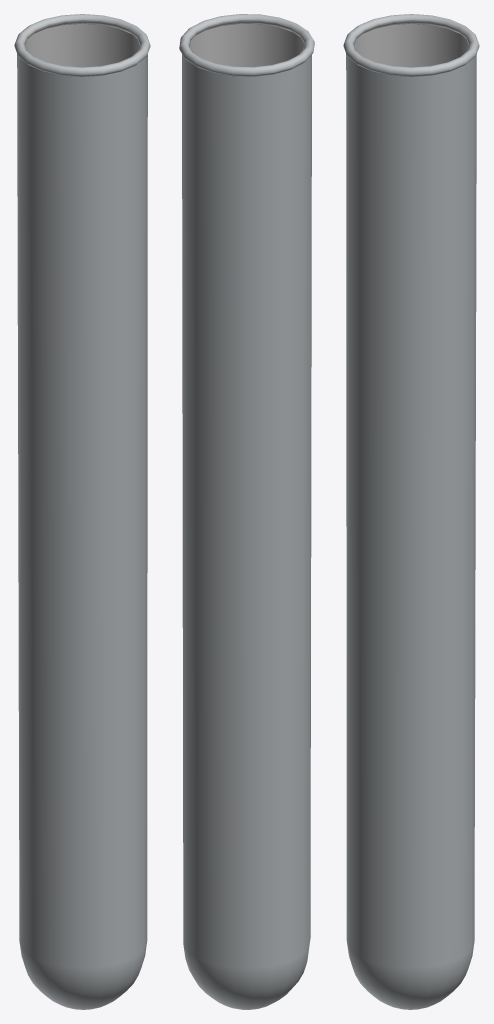
The model's file is hx_fyl_20mlsg.fbx.
The picture shows the model from 3 angles, left to right: view 1: azimuth 90°, elevation 25°; view 2: azimuth 150°, elevation 25°; view 3: azimuth 270°, elevation 25°; orthographic projection.
Visible parts, largest first — view 1: hx_fyl_20mlsg_sg, hx_fyl_20mlsg_znw; view 2: hx_fyl_20mlsg_sg, hx_fyl_20mlsg_znw; view 3: hx_fyl_20mlsg_sg, hx_fyl_20mlsg_znw.
Part boxes in pixels (box(x1,y1,x2,y2)): hx_fyl_20mlsg_sg: box(14, 14, 150, 1009); hx_fyl_20mlsg_znw: box(24, 20, 140, 67); hx_fyl_20mlsg_sg: box(179, 14, 314, 1009); hx_fyl_20mlsg_znw: box(189, 20, 304, 66); hx_fyl_20mlsg_sg: box(343, 14, 479, 1009); hx_fyl_20mlsg_znw: box(353, 20, 469, 67).
Bounding box in the file's own units: 1.92 × 14.97 × 1.92.
